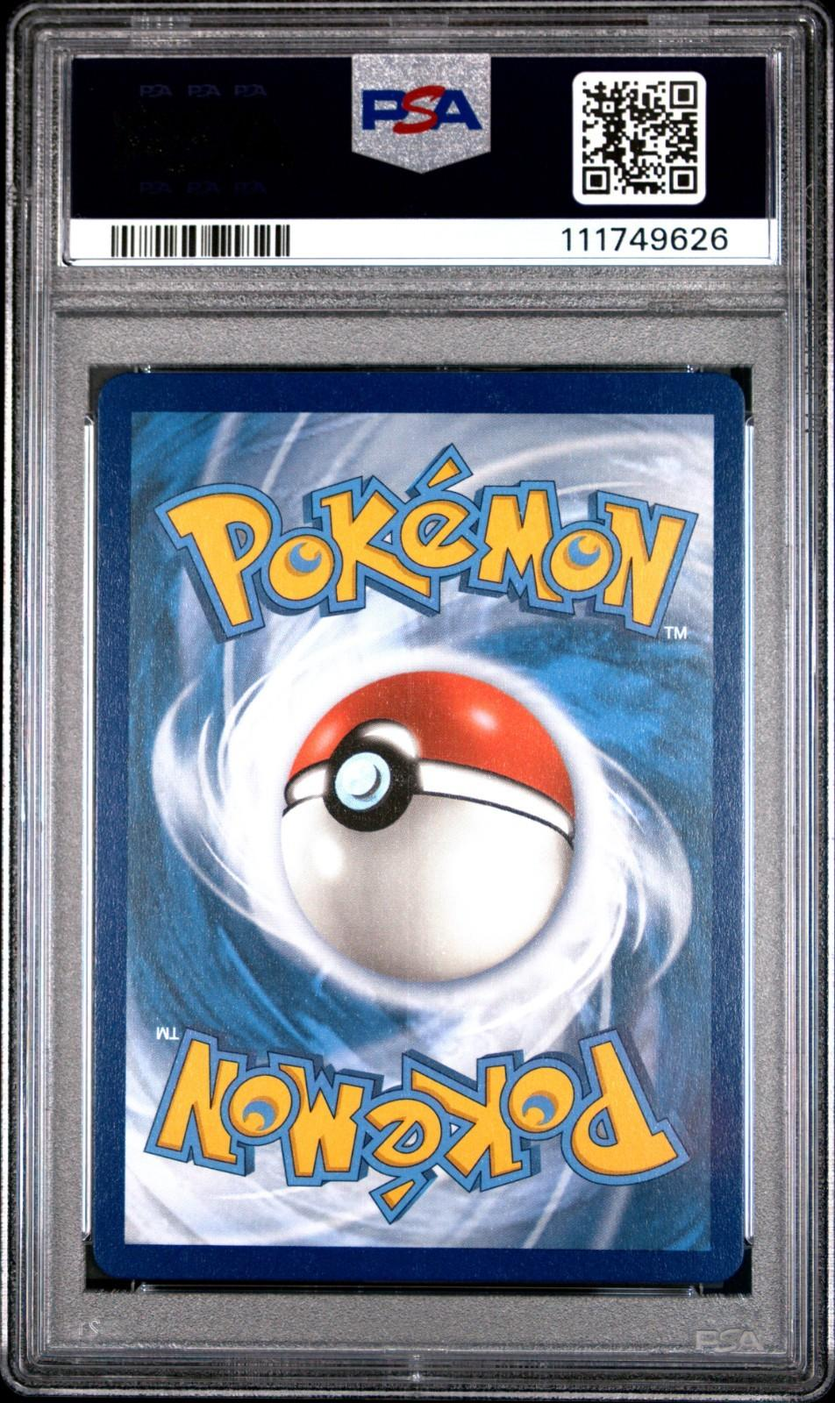card-2UtV: (92, 371, 746, 1284)
